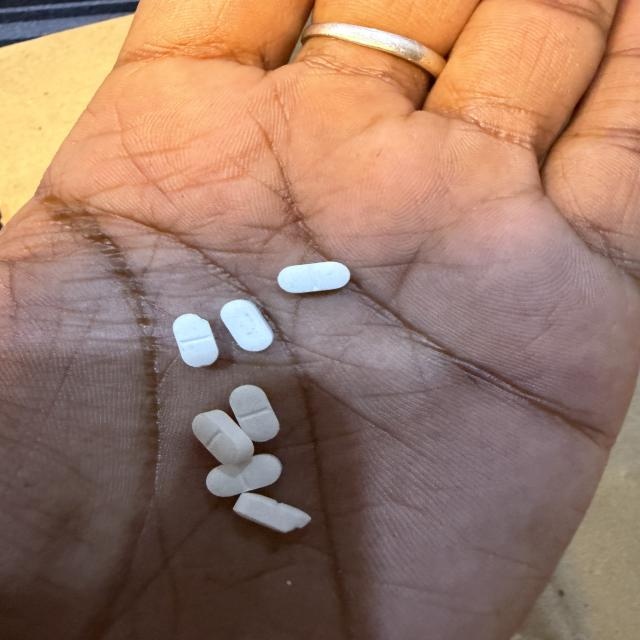pill: (192, 410, 253, 464), (207, 454, 281, 496), (234, 493, 310, 532), (230, 385, 279, 441), (221, 300, 273, 351), (173, 314, 218, 367), (278, 262, 350, 293)
